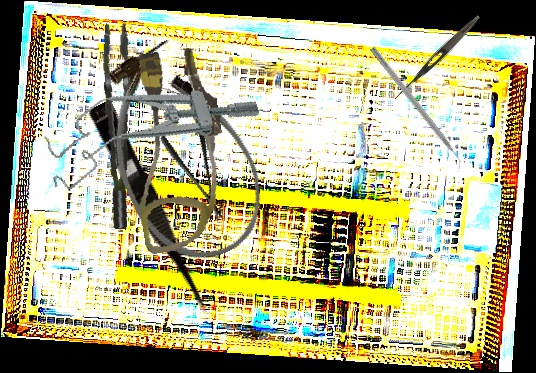Cannula: (77, 28, 283, 279), (116, 43, 239, 256)
Chopper: (363, 46, 468, 174)
Dressing Forceps: (391, 12, 483, 104)
Micro Scissor: (83, 99, 216, 321), (138, 69, 240, 230)
Speculum: (34, 56, 265, 194)
Tissue Forceps: (84, 22, 148, 230)
